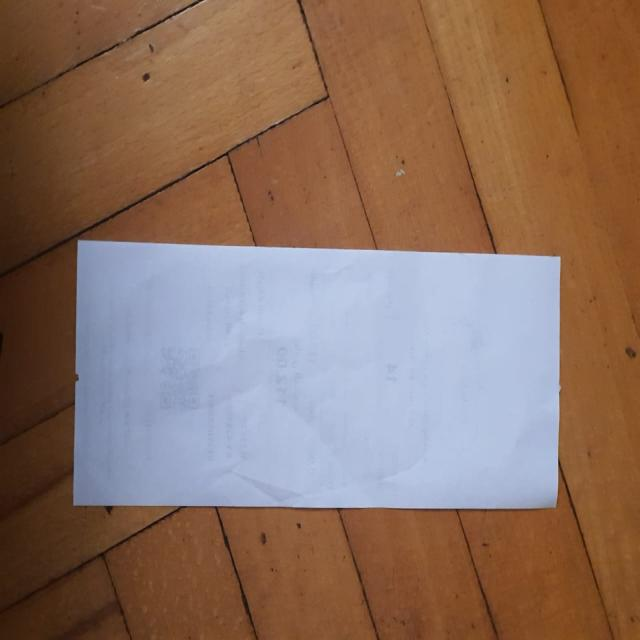paper: (54, 224, 586, 528)
